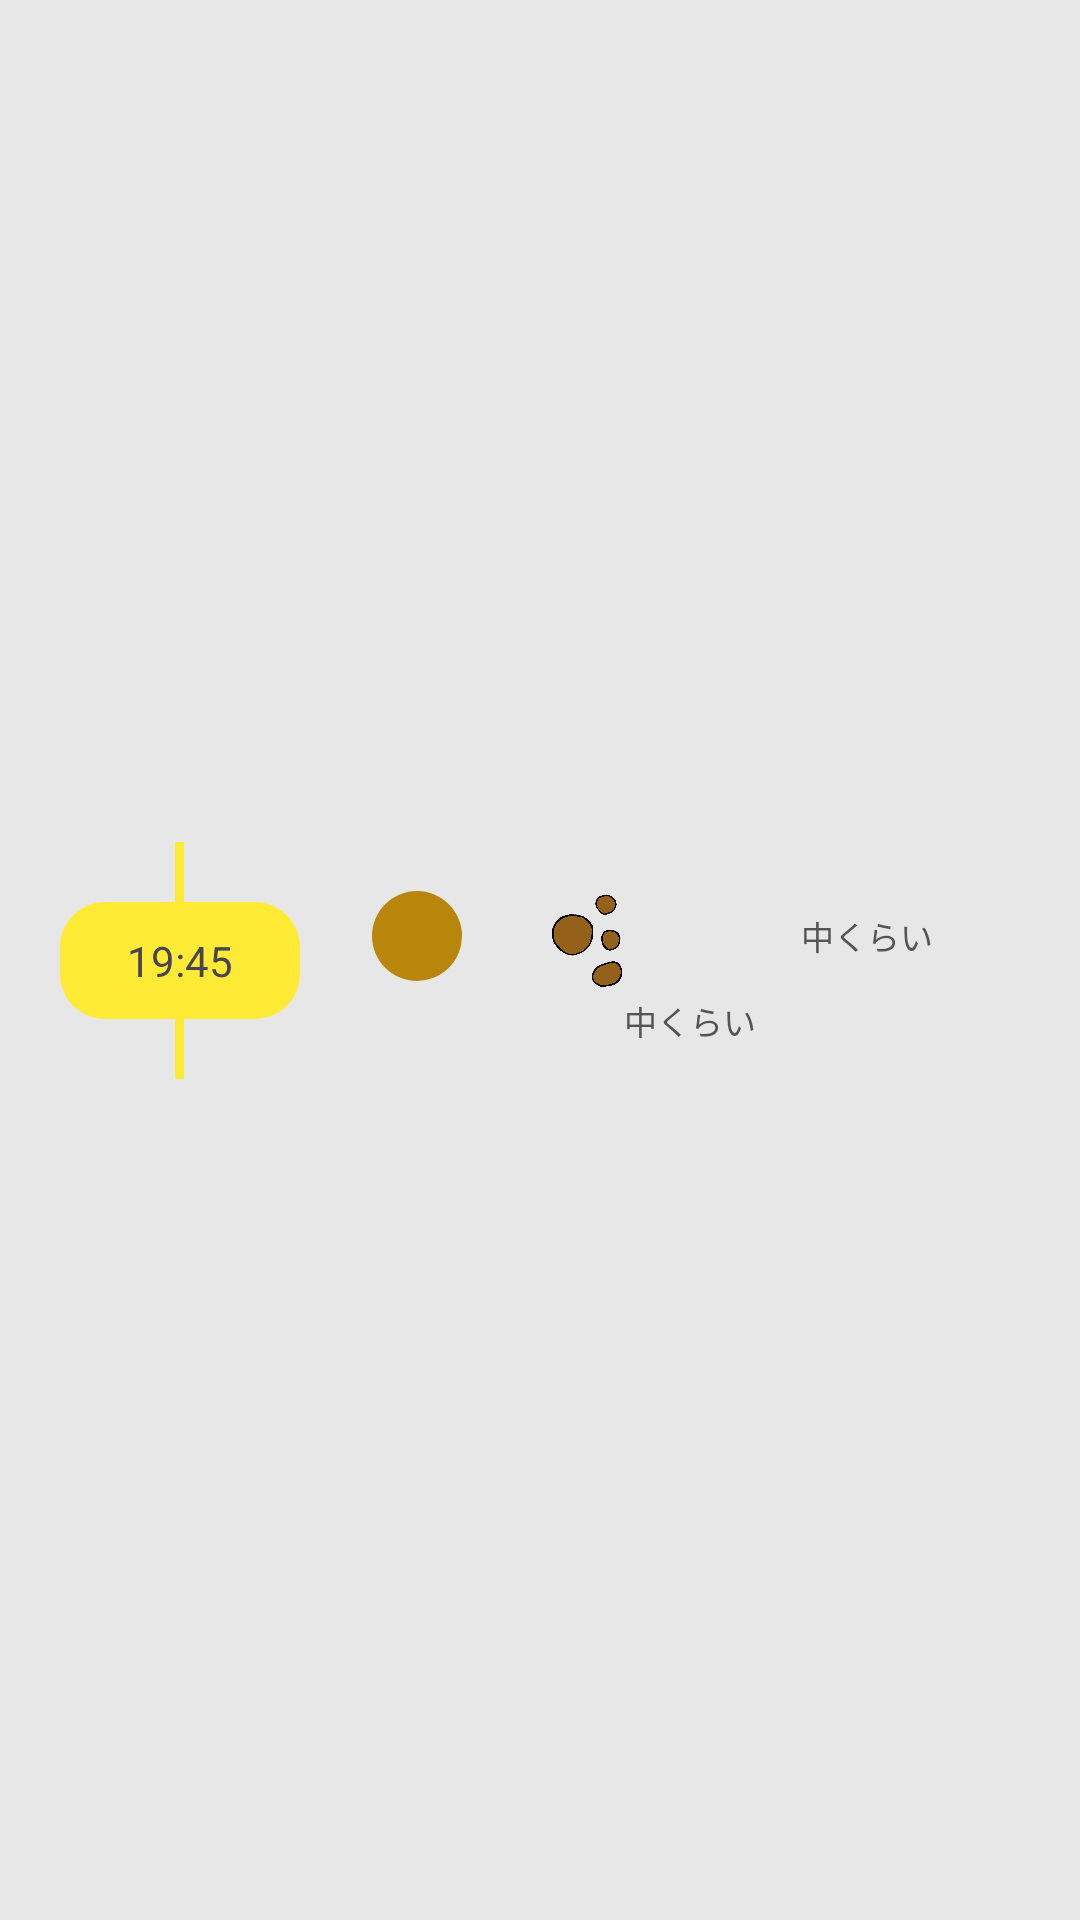

Icon click points for this 1080w x 1920h phone screenshot, format (x,y):
poop shape: (587,940)
